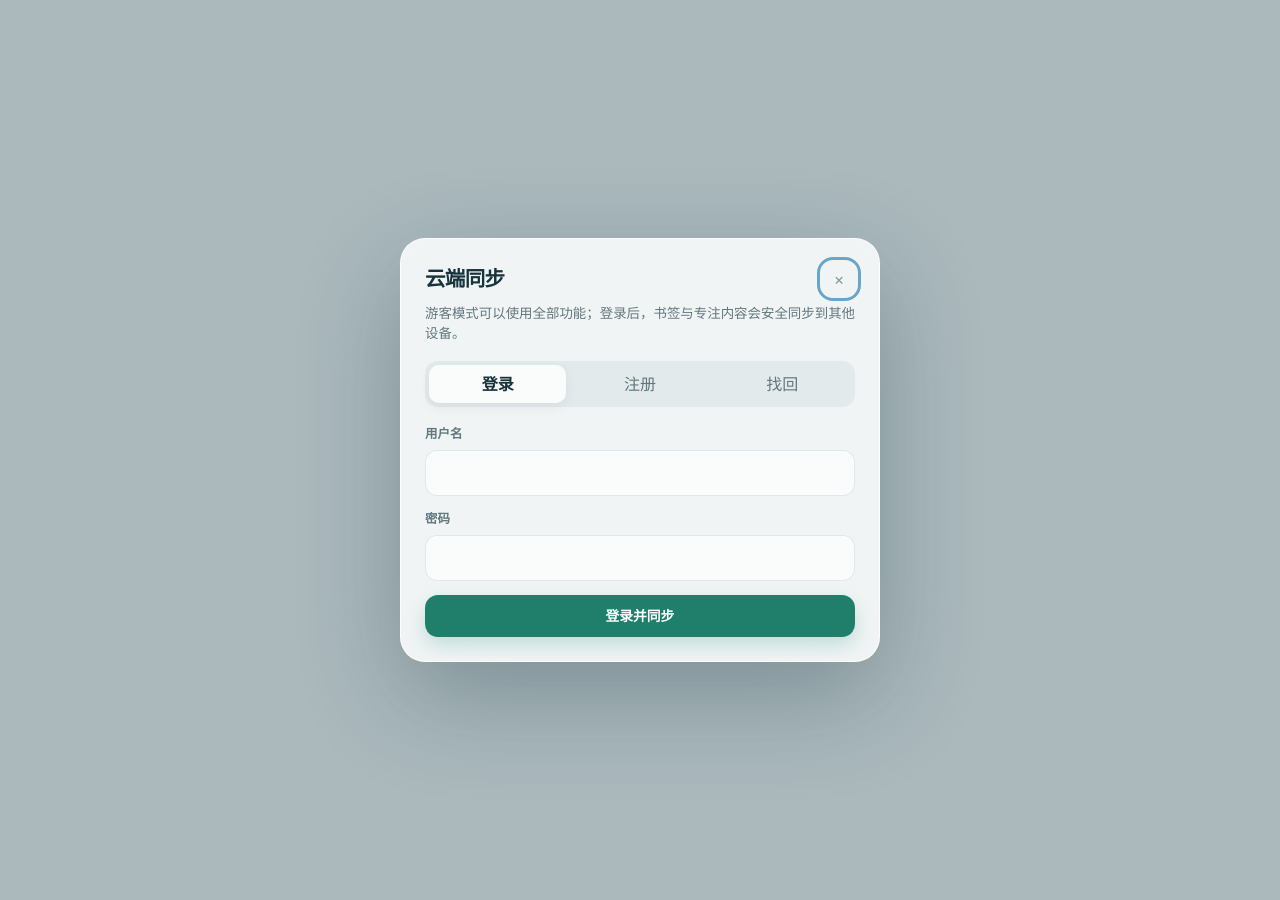
Scenario: AuthDialog › surfaces API errors without closing the dialog
In the field labelled "用户名": (640, 473) [425,450,855,496], type "xiaohe"
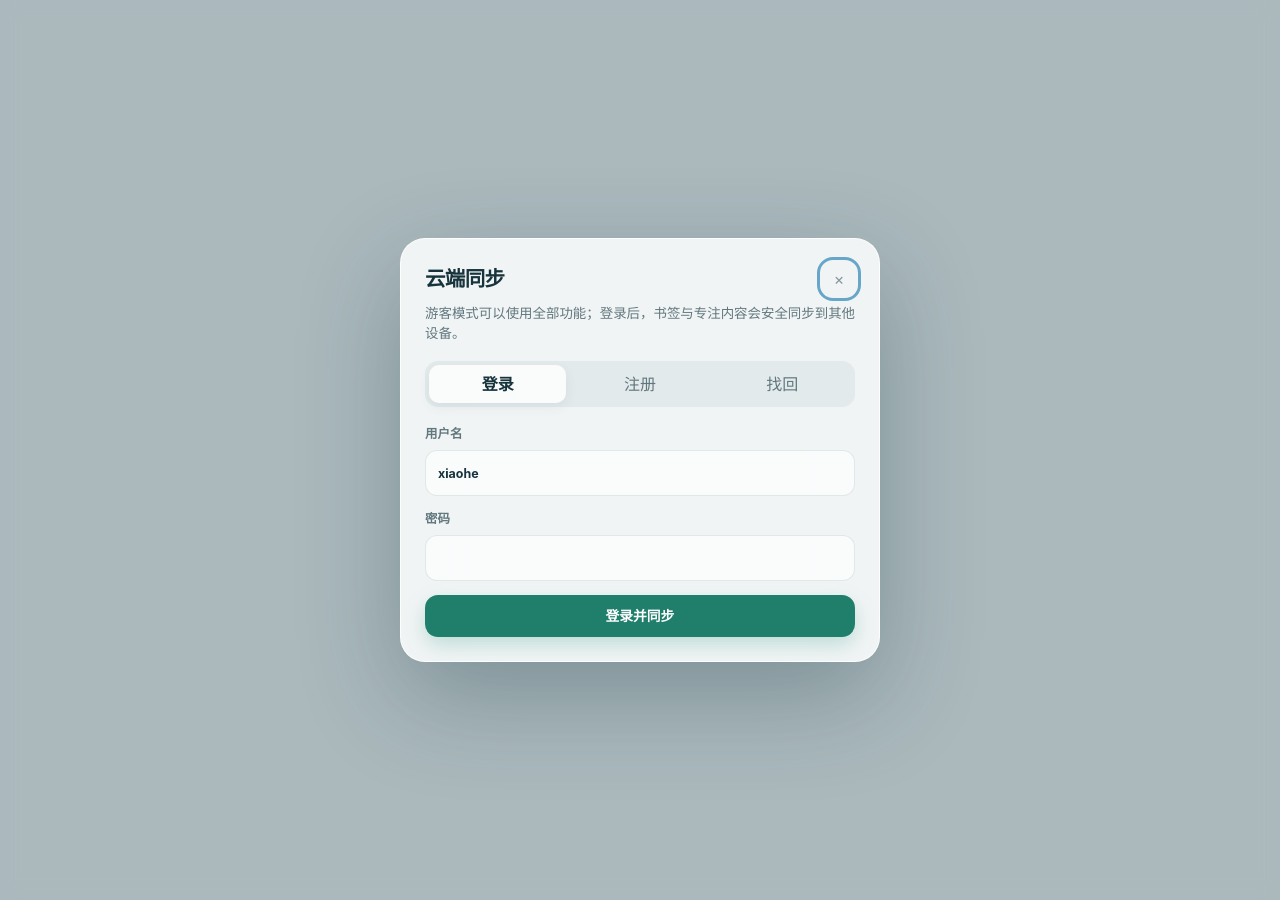
In the password field labelled "密码": (640, 558) [425,535,855,581], type "wrong-password"
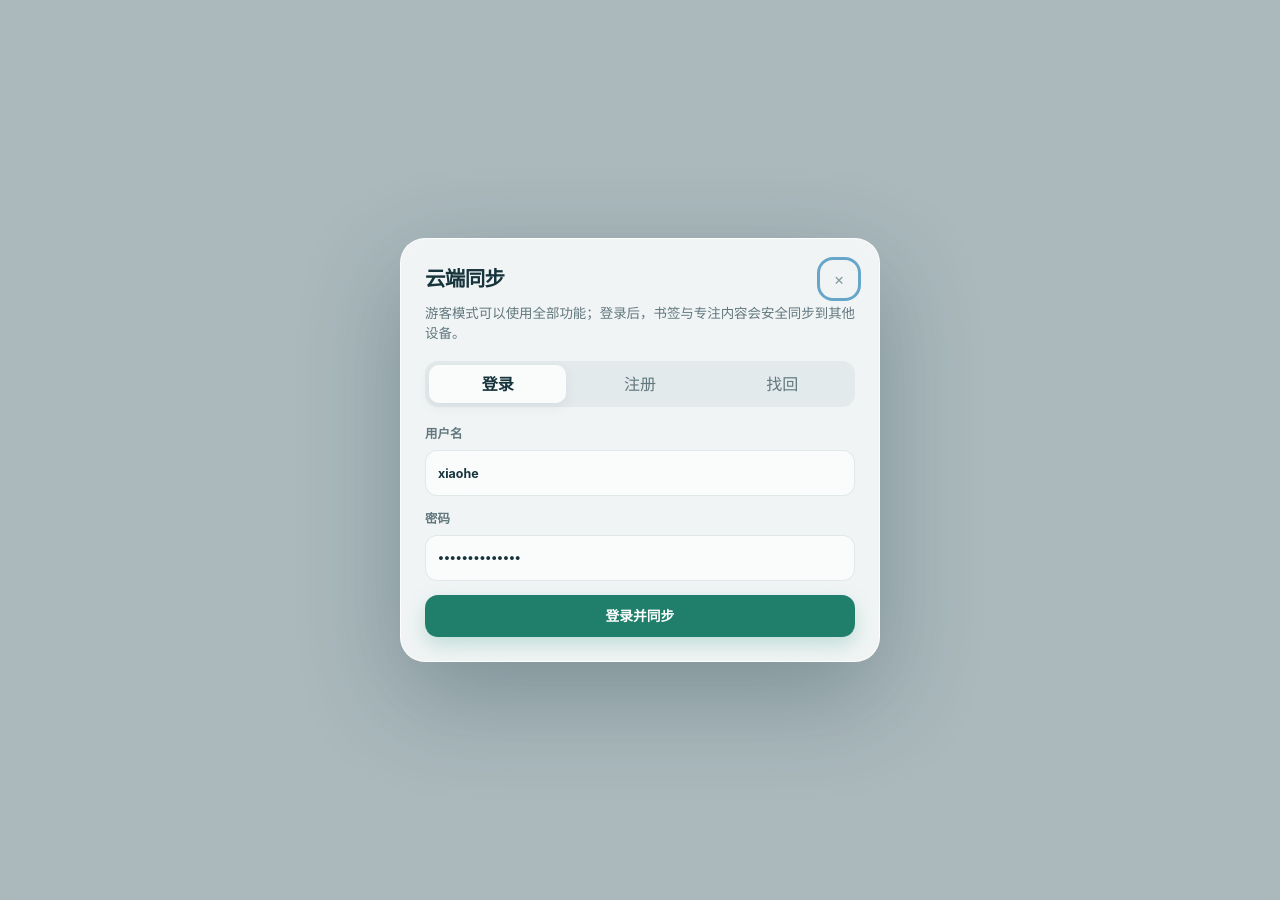
Submit the form "登录并同步", box [425,425,855,637]
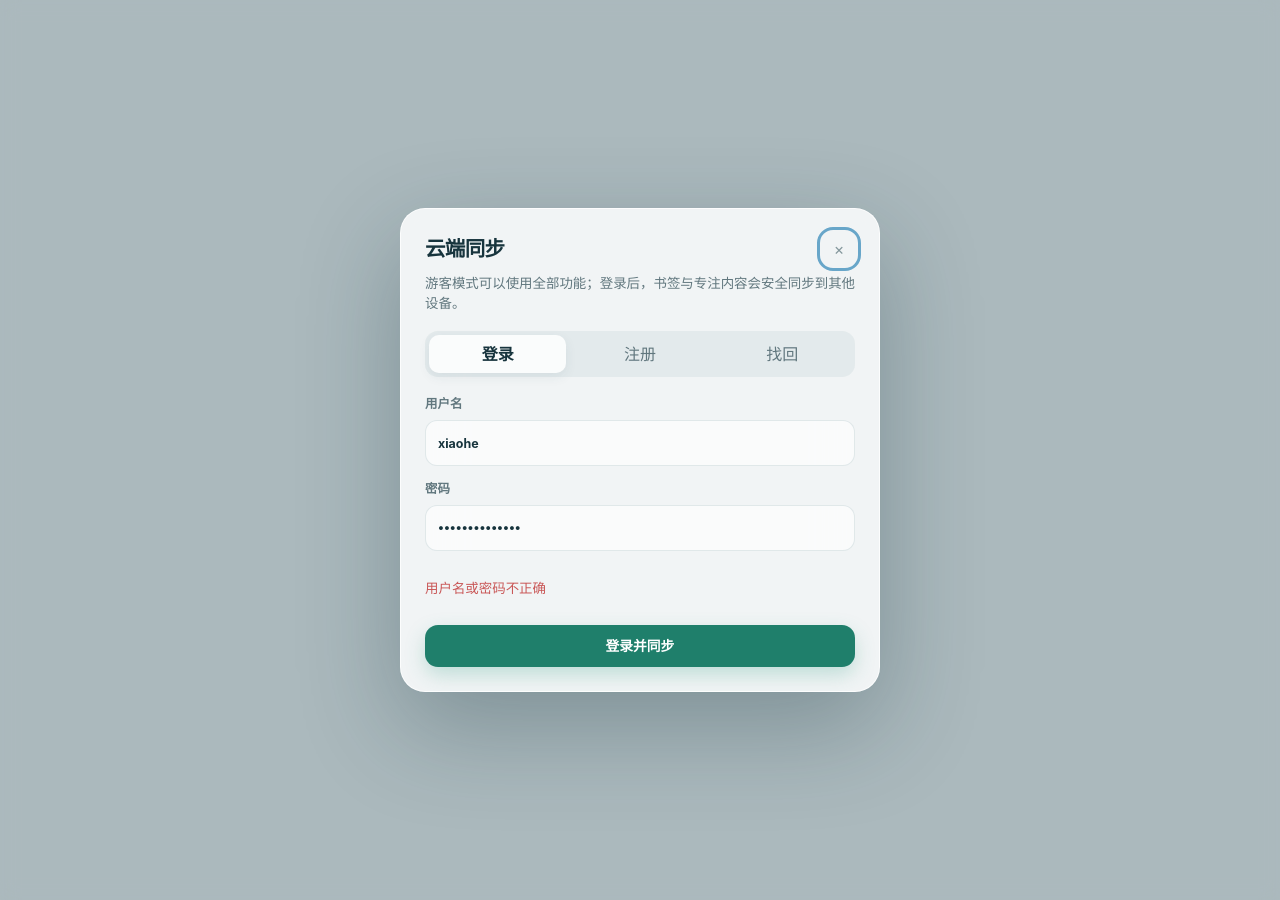
Expected: the dialog is shown, [400,208,880,692]
Expected: the message reads "用户名或密码不正确", [425,580,546,596]
